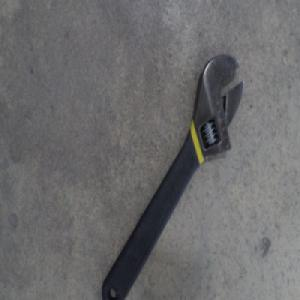AdjustableWrench: (101, 58, 244, 299)
